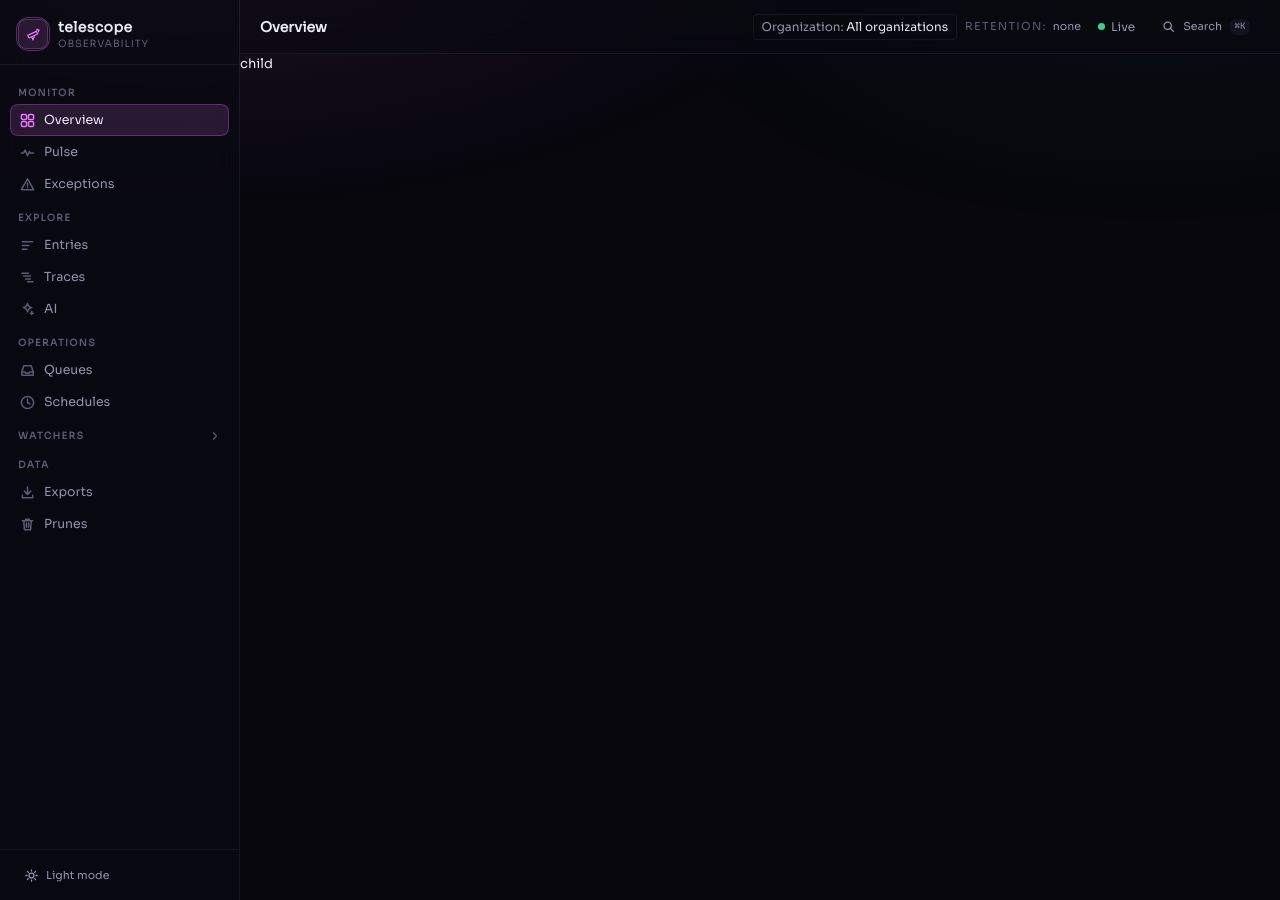
Test: Organization control › '*': a picker with All organizations first
The width and height of the screenshot is (1280, 900).
Click the button "Organization: All organizations".
click(855, 26)  # box [752,14,957,40]
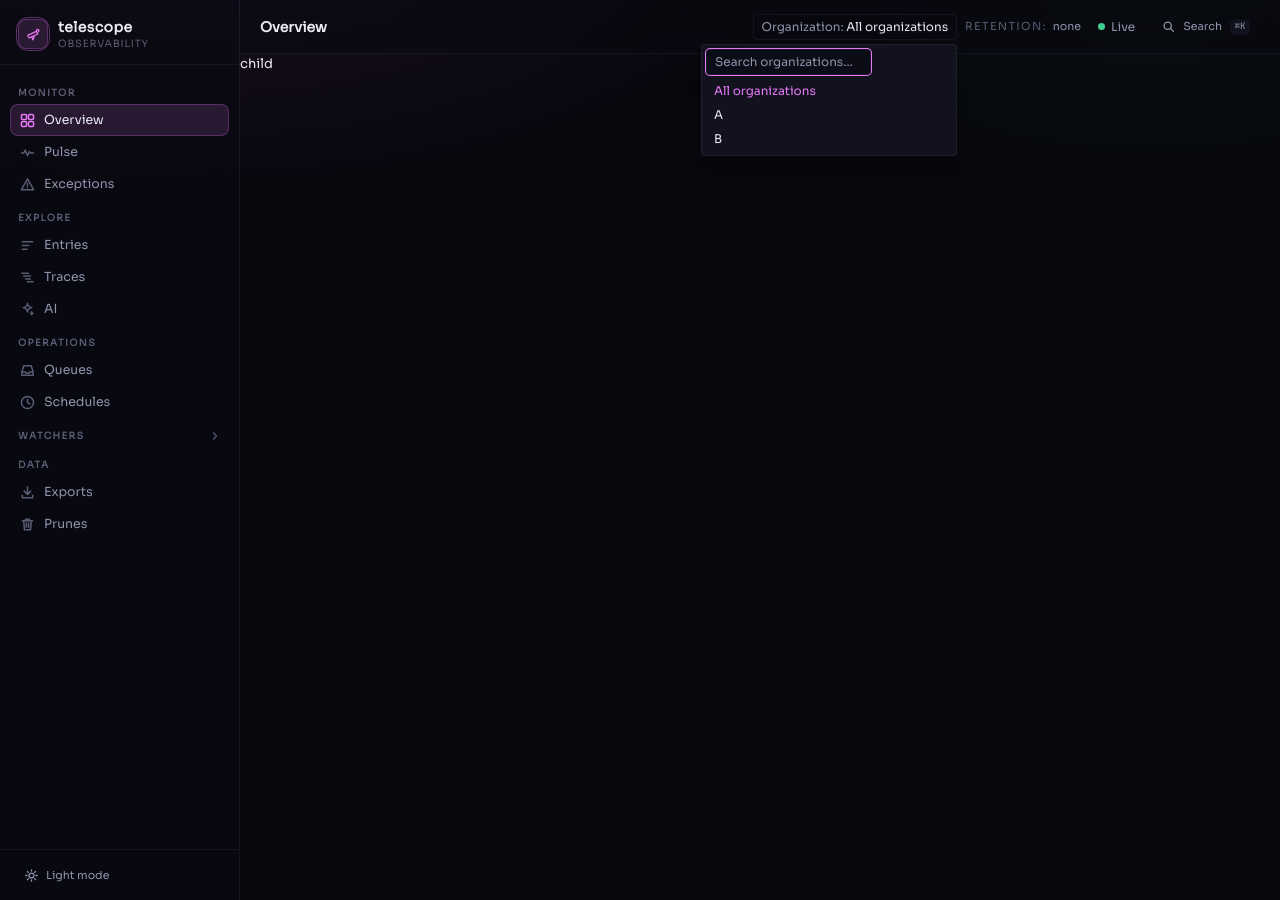
Result: the options read "All organizations", "A", "B", in this order at [714,82,816,98]; [714,106,723,122]; [714,130,722,146]
